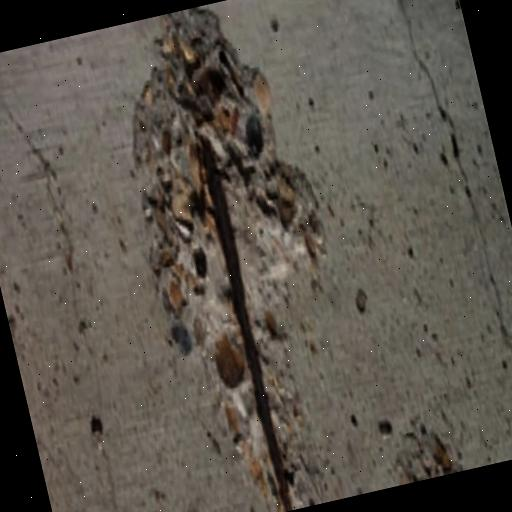spalling: (97, 0, 391, 512)
